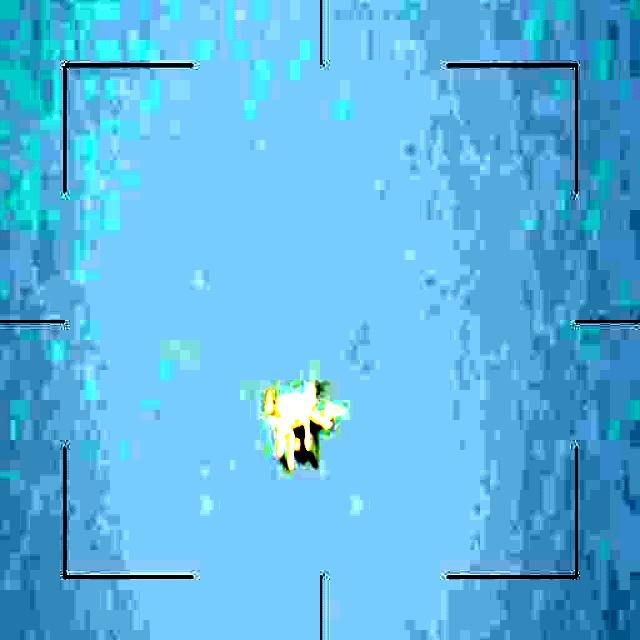bird: (252, 371, 336, 468)
